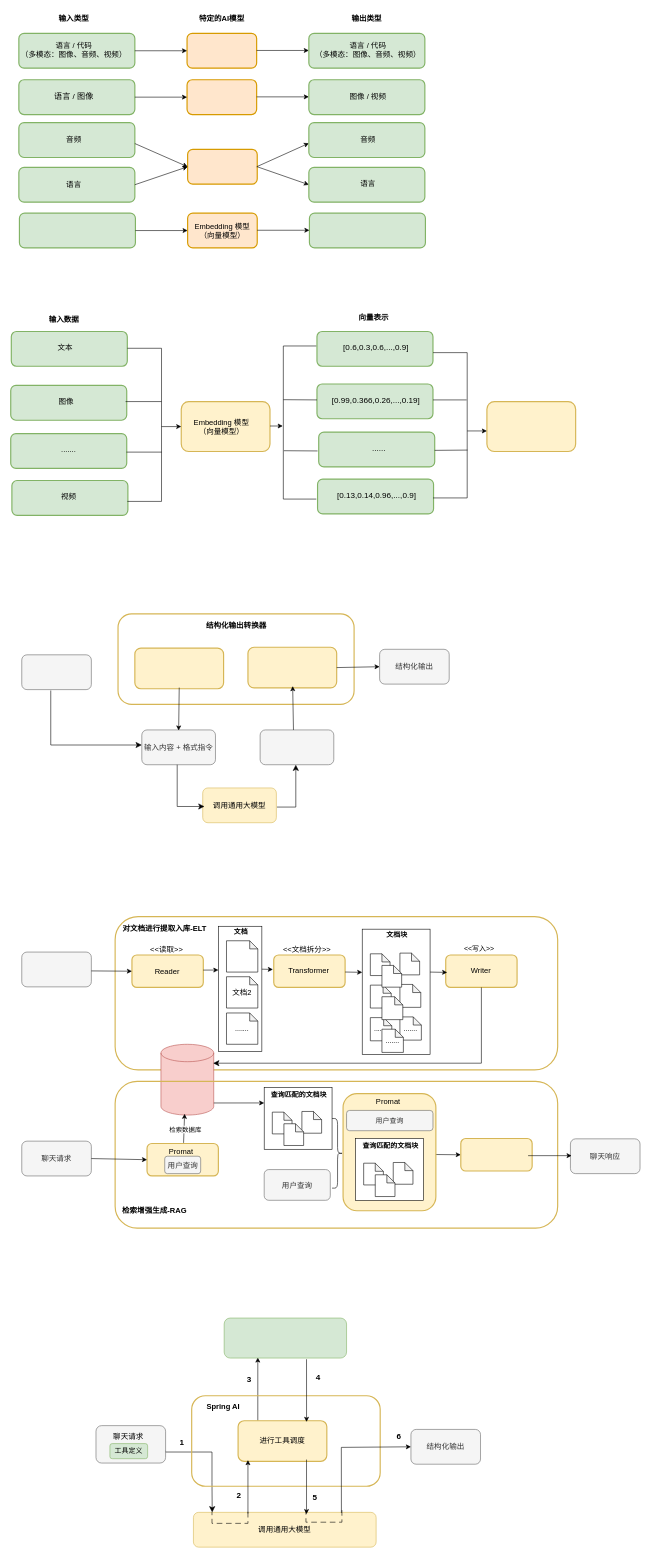
Some shapes in this 650 by 1557 pixel diagram are drawn without their labels. The shapes that lost their labels are listed below. From the top down, each one's box as (x1, y1, x2, y2) in pixels, then its label:
(186, 32, 257, 68): 大语言模型（LLM）
(186, 79, 257, 115): 图像生成模型
(187, 148, 258, 184): 文本转语音模型 / 语音转文本模型
(19, 212, 136, 248): 文本 / 图像 / 音频 / 视频
(309, 212, 426, 248): 向量 / Embedding（向量表示）
(486, 401, 576, 452): 向量存储数据库（ Pinecone, Qdrant, Redis等等 ）
(21, 654, 91, 690): 原始输入
(134, 647, 224, 689): 提供格式指令
(247, 646, 337, 688): 将文本转换为结构化输出
(260, 729, 334, 765): 原始输出（文本）
(21, 951, 91, 987): 数据源
(226, 940, 258, 972): 文档1
(160, 1044, 214, 1115): 向量数据库
(460, 1138, 532, 1171): 聊天大模型
(224, 1317, 347, 1358): 外部工具
